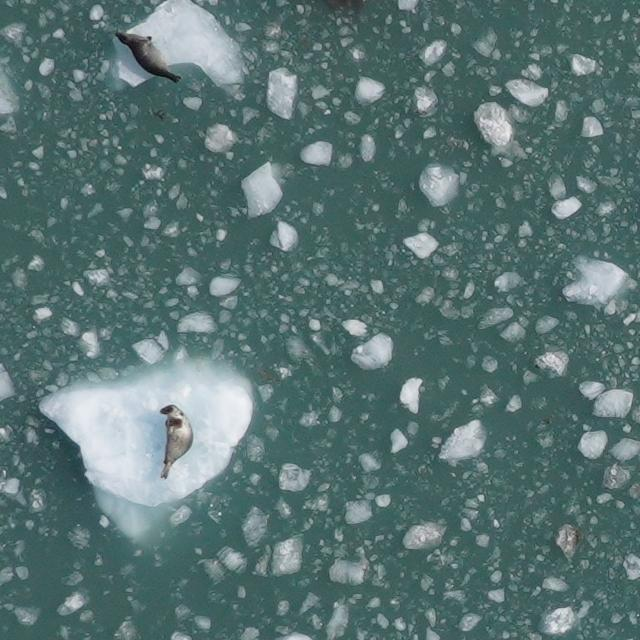seal: (114, 29, 186, 85), (156, 398, 196, 482)
